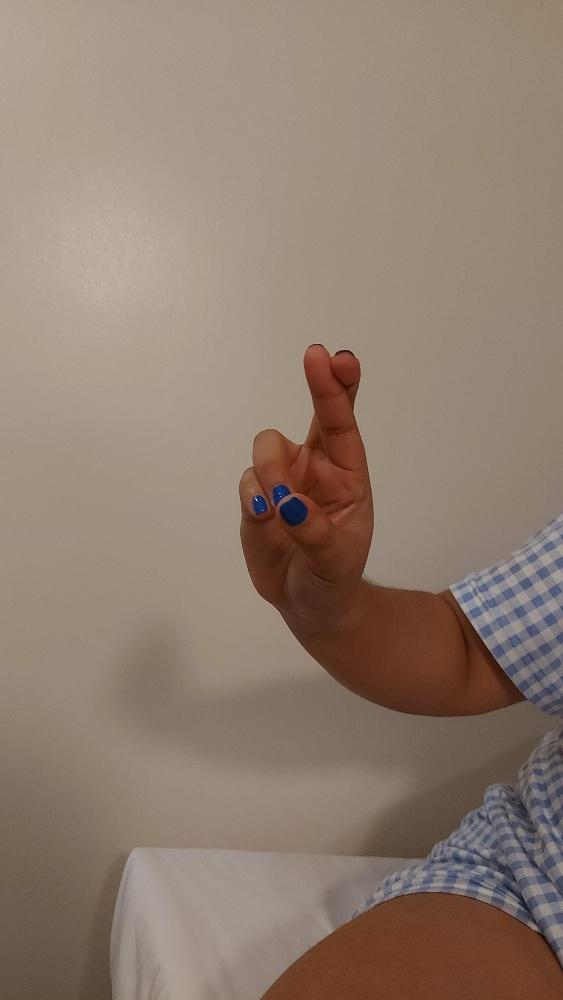r: (237, 340, 376, 618)
